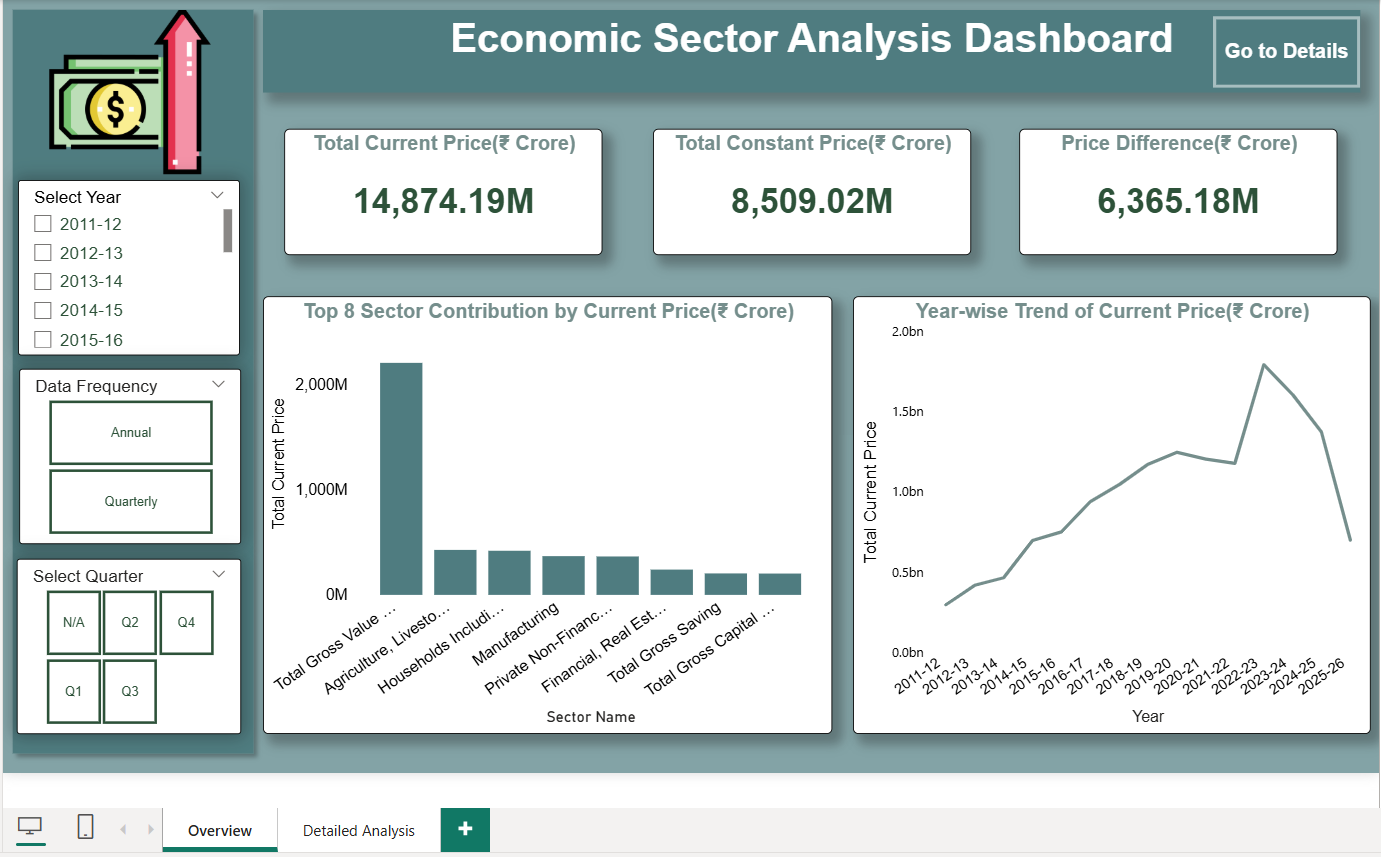

The page's visual inventory and layout, read from the dashboard file:
{"tool":"powerbi","page":{"name":"Overview","canvas":[1280,720],"ordinal":0},"visuals":[{"type":"textbox","box":[242,9.9,1021,76.5],"z":0},{"type":"shape","box":[0,0,242,709.9],"z":1000},{"type":"image","box":[18.5,9.9,198.8,153.1],"z":2000},{"type":"card","title":"Total Current Price(₹ Crore)","fields":{"Values":["Annually_Quarterly_Data.Total Current Price"]},"box":[261.7,119.8,296.3,117.3],"z":3000},{"type":"card","title":"Total Constant Price(₹ Crore)","fields":{"Values":["Annually_Quarterly_Data.Total Constant Price"]},"box":[604.9,119.8,296.3,117.3],"z":4000},{"type":"card","title":"Price Difference(₹ Crore)","fields":{"Values":["Annually_Quarterly_Data.Price Diff"]},"box":[945.7,119.8,296.3,117.3],"z":5000},{"type":"clusteredColumnChart","title":"Top 8 Sector Contribution by Current Price(₹ Crore)","fields":{"Category":["Annually_Quarterly_Data.Sector Name"],"Y":["Annually_Quarterly_Data.Total Current Price"]},"box":[242,275.3,529.6,407.4],"z":6000},{"type":"slicer","fields":{"Values":["Annually_Quarterly_Data.Year"]},"box":[13.6,167.9,206.2,163],"z":7000},{"type":"slicer","fields":{"Values":["Annually_Quarterly_Data.Frequency"]},"box":[14.8,343.2,206.2,163],"z":8000},{"type":"slicer","fields":{"Values":["Annually_Quarterly_Data.Quarter"]},"box":[12.3,519.8,208.6,163],"z":9000},{"type":"lineChart","title":"Year-wise Trend of Current Price(₹ Crore)","fields":{"Category":["Annually_Quarterly_Data.Year"],"Y":["Annually_Quarterly_Data.Total Current Price"]},"box":[790.1,275.3,481.5,407.4],"z":10000},{"type":"actionButton","box":[1125.9,14.8,137,66.7],"z":11000}]}

Visuals, with their boxes in screenshot pixels (x1, y1, x2, y2):
textbox: <bbox>257, 14, 1344, 96</bbox>
shape: <bbox>0, 4, 257, 759</bbox>
image: <bbox>20, 14, 231, 177</bbox>
"Total Current Price(₹ Crore)" card: <bbox>278, 131, 594, 256</bbox>
"Total Constant Price(₹ Crore)" card: <bbox>644, 131, 959, 256</bbox>
"Price Difference(₹ Crore)" card: <bbox>1006, 131, 1321, 256</bbox>
"Top 8 Sector Contribution by Current Price(₹ Crore)" clusteredColumnChart: <bbox>257, 297, 821, 730</bbox>
slicer - Annually_Quarterly_Data.Year: <bbox>14, 182, 234, 356</bbox>
slicer - Annually_Quarterly_Data.Frequency: <bbox>16, 369, 235, 542</bbox>
slicer - Annually_Quarterly_Data.Quarter: <bbox>13, 557, 235, 730</bbox>
"Year-wise Trend of Current Price(₹ Crore)" lineChart: <bbox>841, 297, 1353, 730</bbox>
actionButton: <bbox>1198, 19, 1344, 90</bbox>
